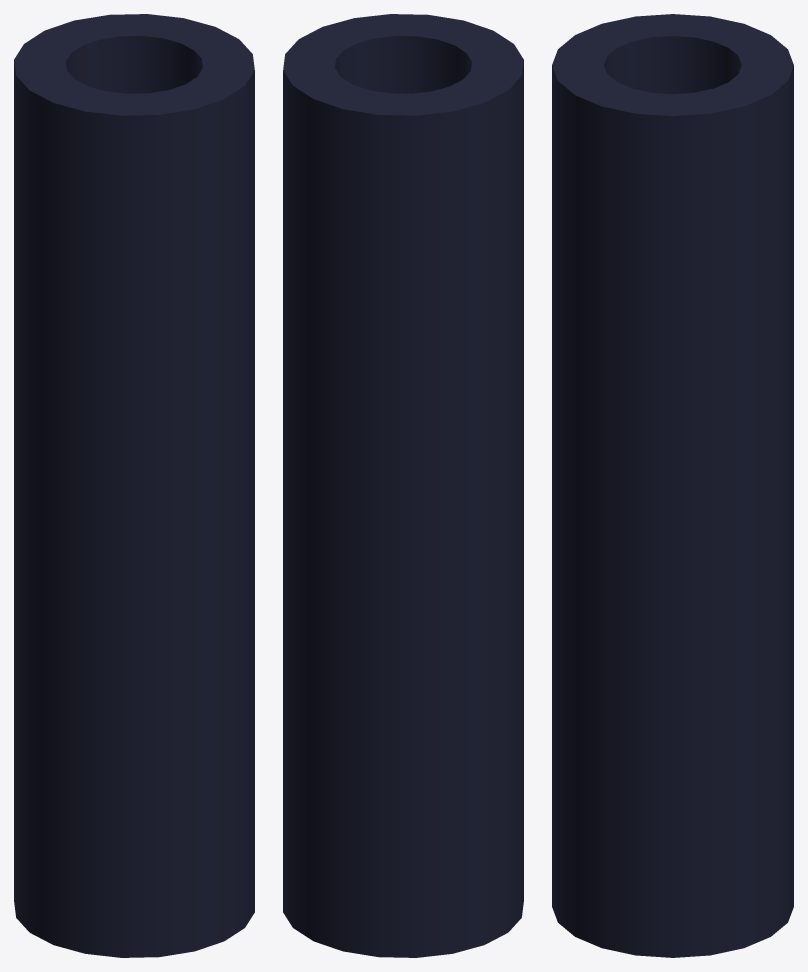
The model's file is StickContainer.fbx.
3 renders of one model, left to right at view 1: azimuth 30°, elevation 25°; view 2: azimuth 150°, elevation 25°; view 3: azimuth 270°, elevation 25°, orthographic.
Parts seen in each view (by area): view 1: StickContainer; view 2: StickContainer; view 3: StickContainer.
Boxes of the visible parts, left/top/right/bottom form: StickContainer: left=14, top=14, right=254, bottom=957; StickContainer: left=283, top=14, right=523, bottom=957; StickContainer: left=552, top=14, right=793, bottom=957.
Bounding box in the file's own units: 2 × 7.68 × 2.
